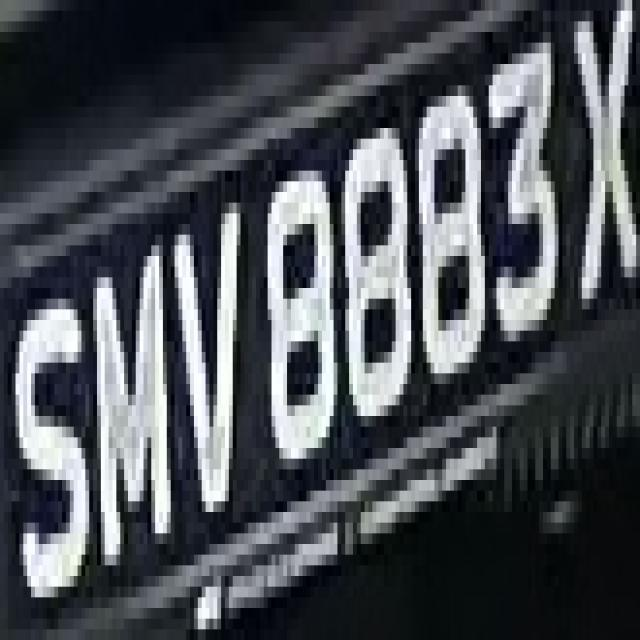3: (485, 42, 558, 394)
8: (330, 107, 419, 469), (403, 53, 485, 416), (272, 139, 345, 469)
M: (89, 213, 175, 555)
S: (8, 256, 85, 619)
V: (167, 181, 256, 544)
X: (574, 11, 640, 320)
